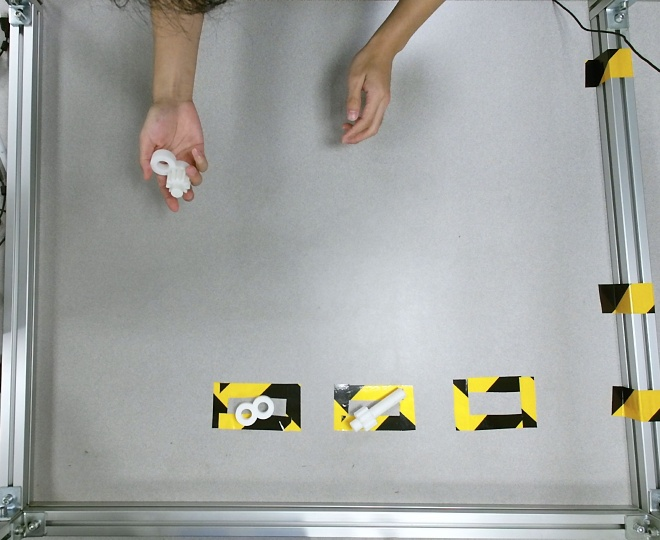stage_2: (148, 149, 193, 199)
